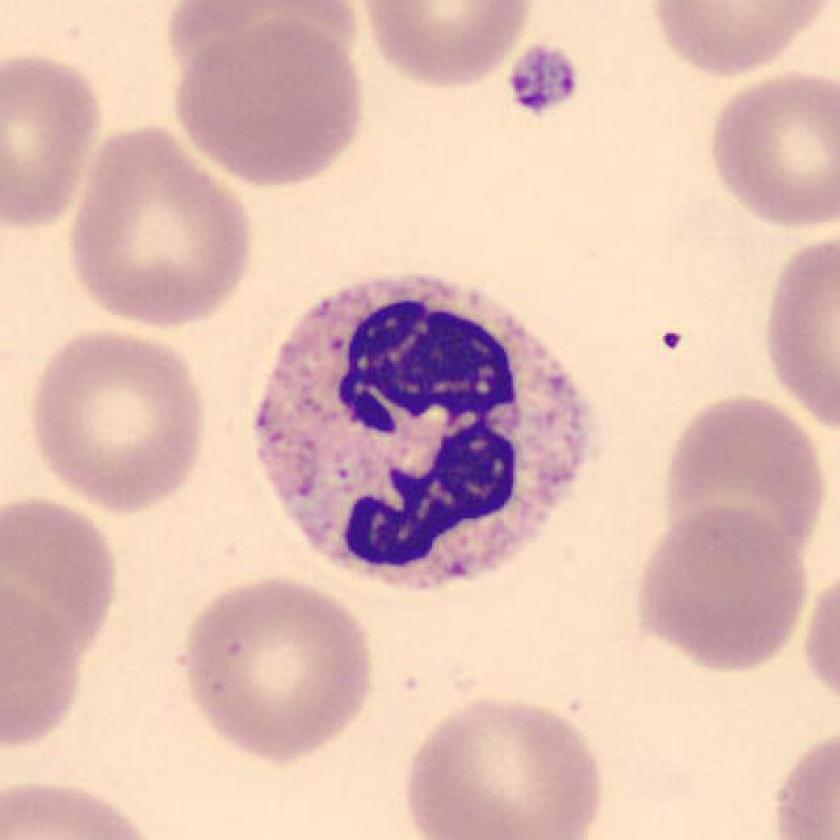neutrophil: (257, 276, 586, 587)
